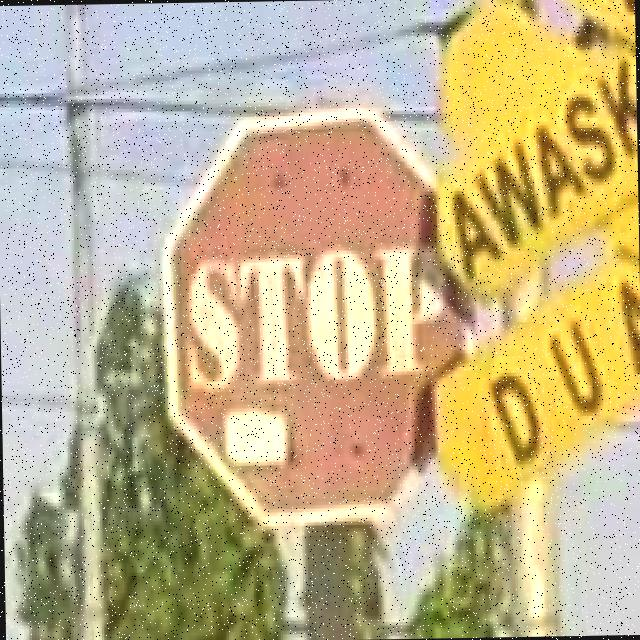Stop: (176, 118, 432, 518)
